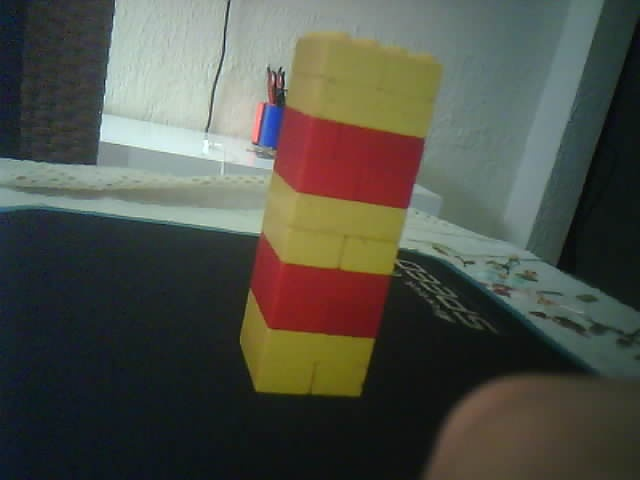lego: (237, 28, 446, 402)
